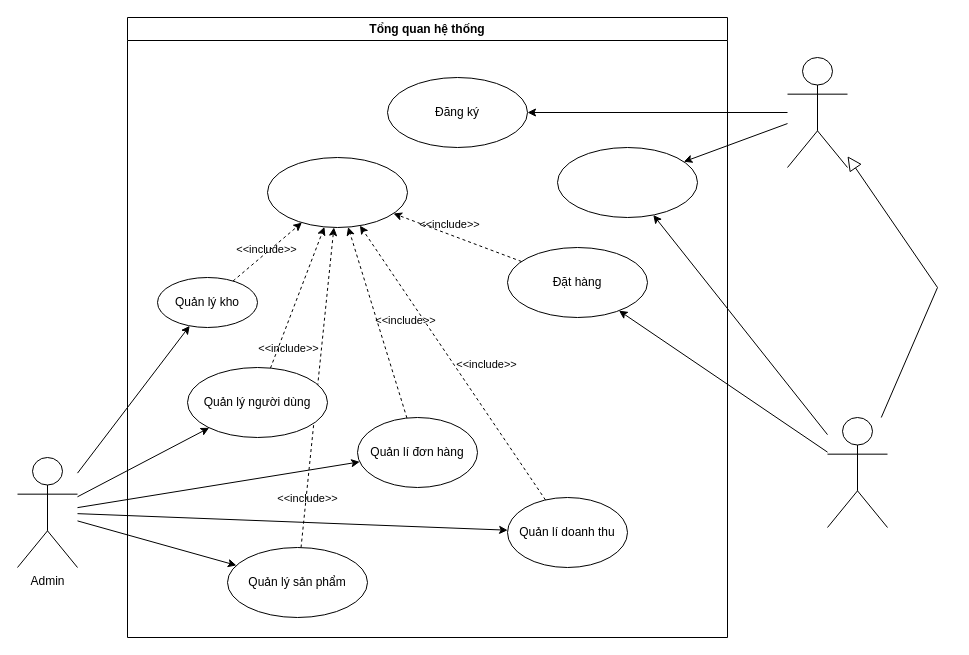
Image size: 969x655. Some labels were removed from this diagram. The shapes that lost their labels are listed below. From the top down, each one's box as (x1, y1, x2, y2) in pixels, then its label:
(786, 56, 848, 168): Guest
(266, 156, 408, 228): Đăng nhập
(556, 146, 698, 218): Xem hàng
(826, 416, 888, 528): User
